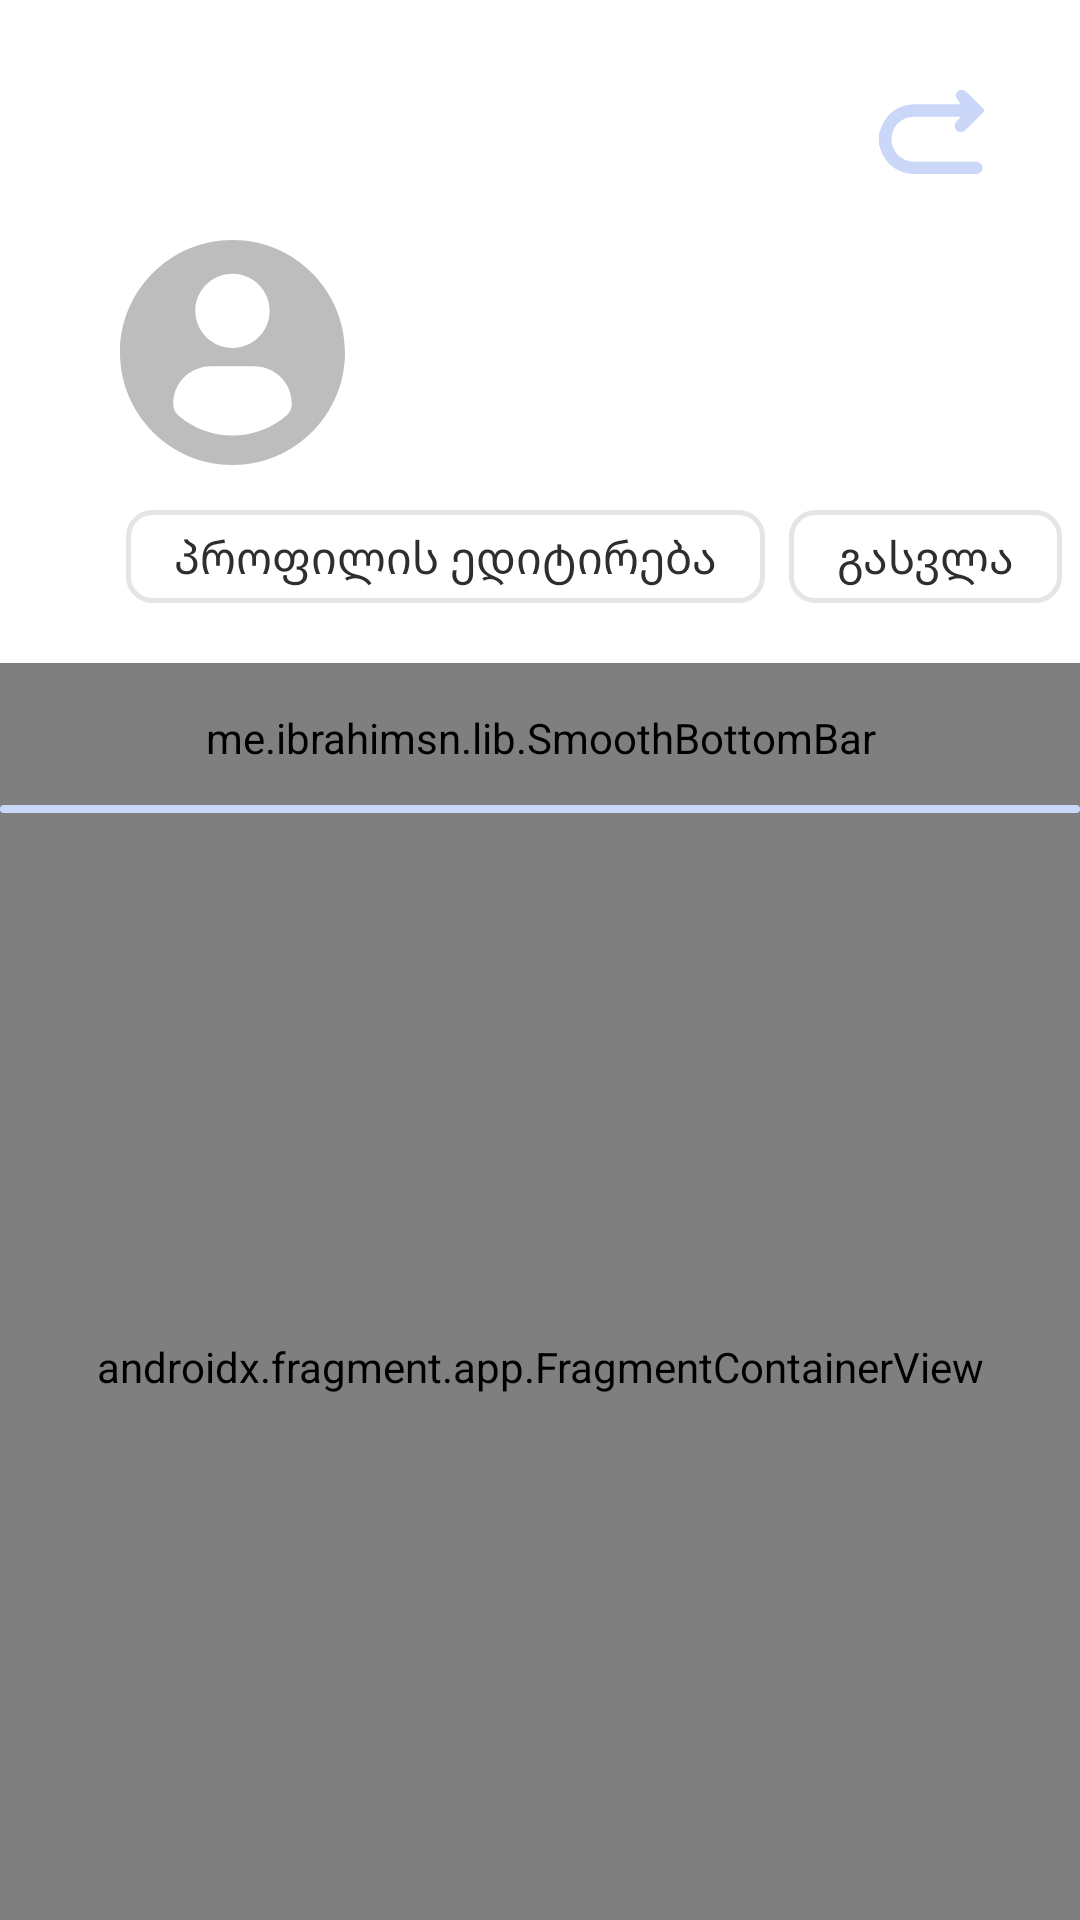

Locate icon controls on the screen. Image size 1080×1920, boxes as (x1, y1, x2, y2).
profile user: (120, 240, 345, 465)
